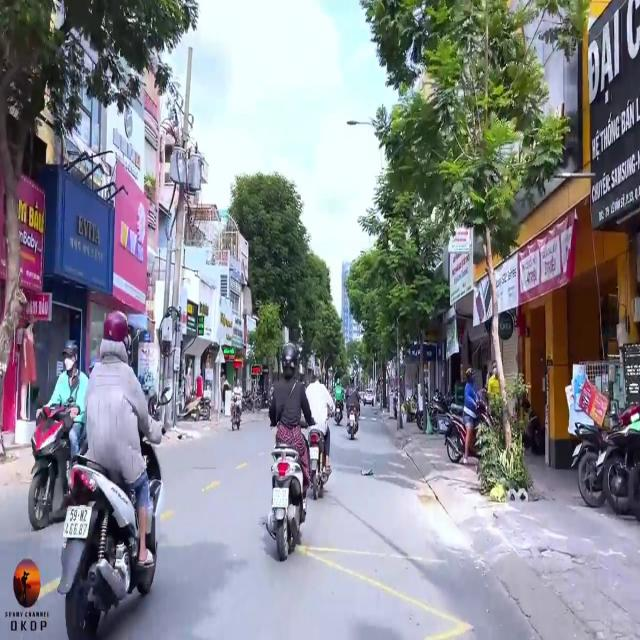bien_trang: (61, 504, 89, 542)
